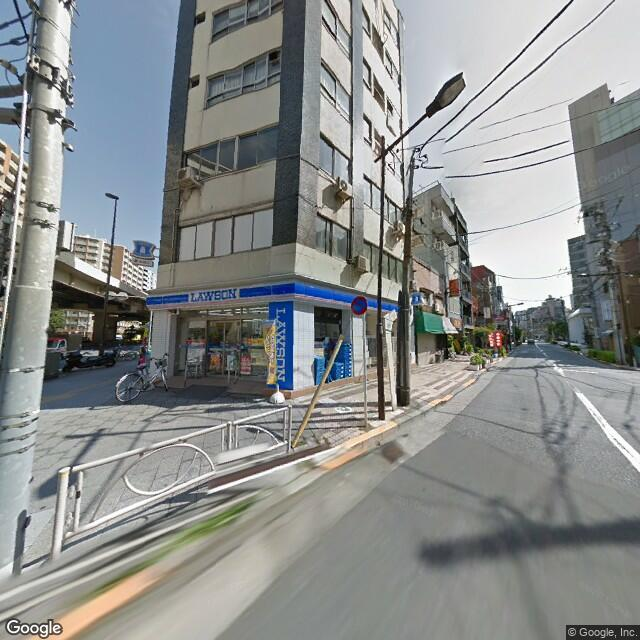lawson: (143, 272, 410, 317), (265, 301, 292, 391), (131, 231, 154, 263)
